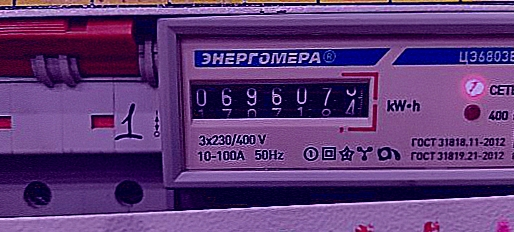0: (292, 84, 307, 106), (192, 87, 206, 108)
4: (342, 97, 355, 118)
6: (217, 86, 231, 107), (267, 86, 281, 106)
7: (317, 86, 332, 107)
9: (242, 86, 255, 107)
screen: (175, 70, 382, 129)
